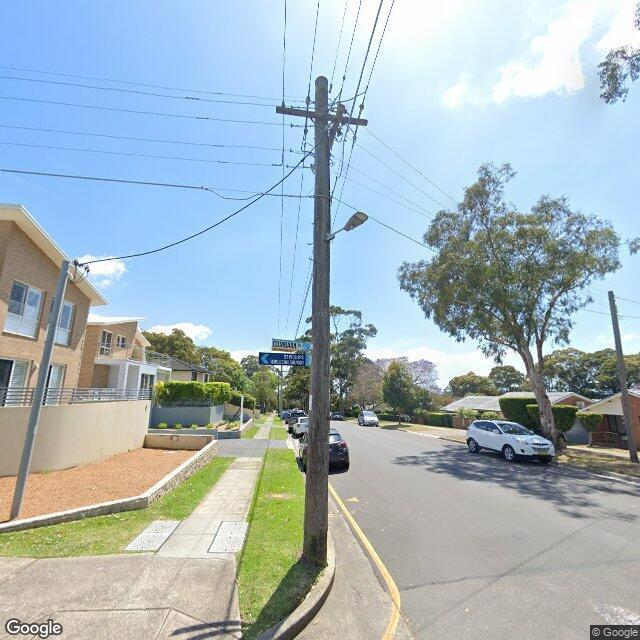crossarm: (275, 105, 368, 127), (328, 104, 345, 151)
steel-pole: (10, 258, 71, 521)
streetlight: (326, 212, 368, 242)
timber-pole: (303, 76, 331, 568), (608, 290, 639, 463)
